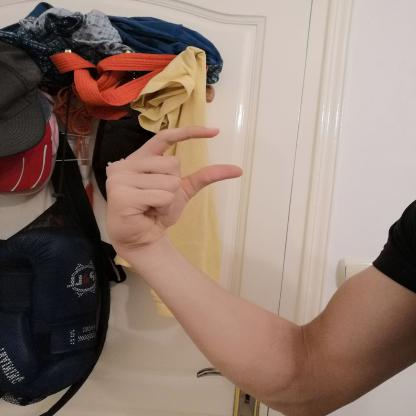DELL: (90, 115, 252, 261)
